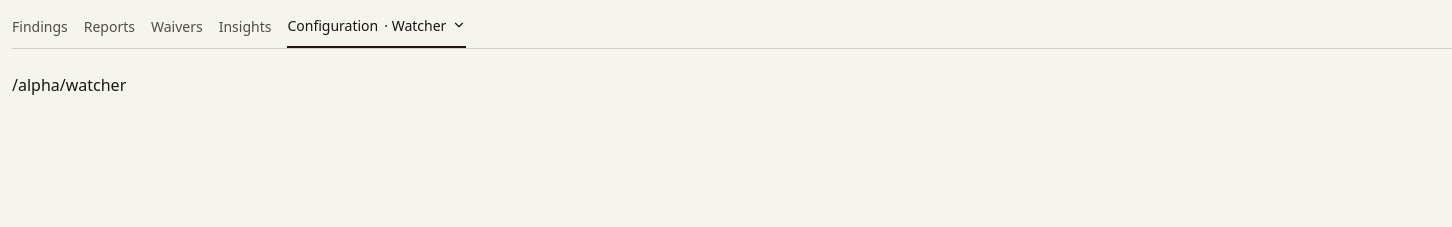
Test case: project navigation › keeps the active watcher page discoverable with the menu closed
This screenshot has width=1452, height=227.
Expected: the button "Configuration" does not show "Configuration"
Click the button "Configuration · Watcher": click(377, 30) [287, 12, 466, 48]
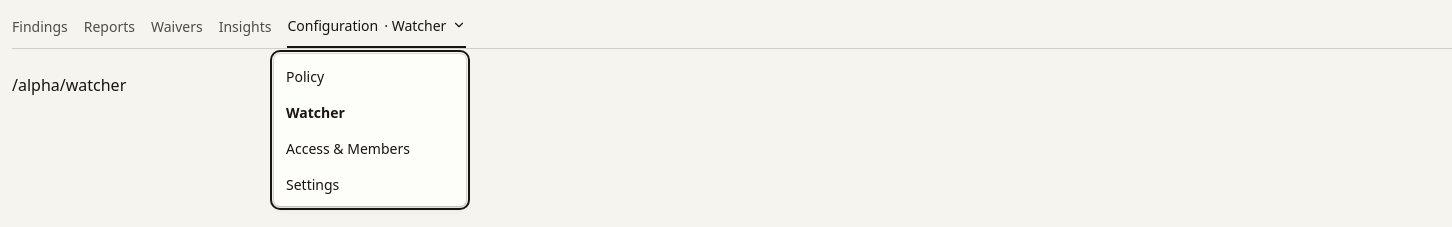
Now the menu is shown, box [274, 54, 466, 206]
